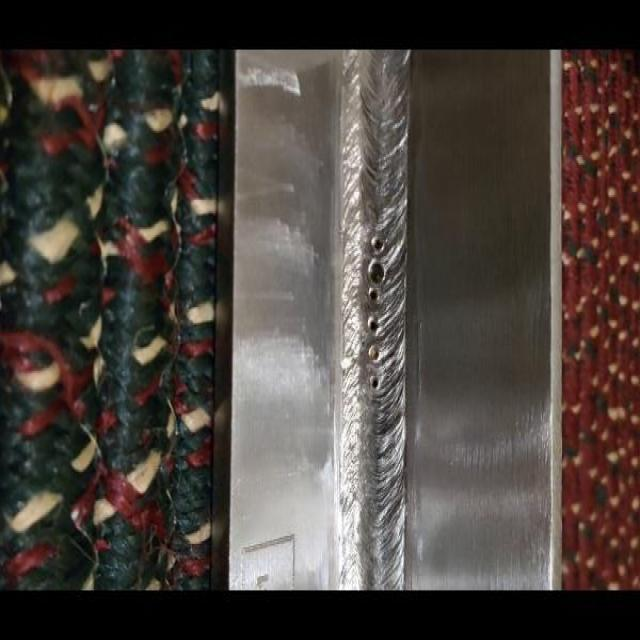Welding Line: (340, 53, 406, 590)
Workpiece: (220, 49, 560, 590)
porosity: (368, 234, 384, 388)
